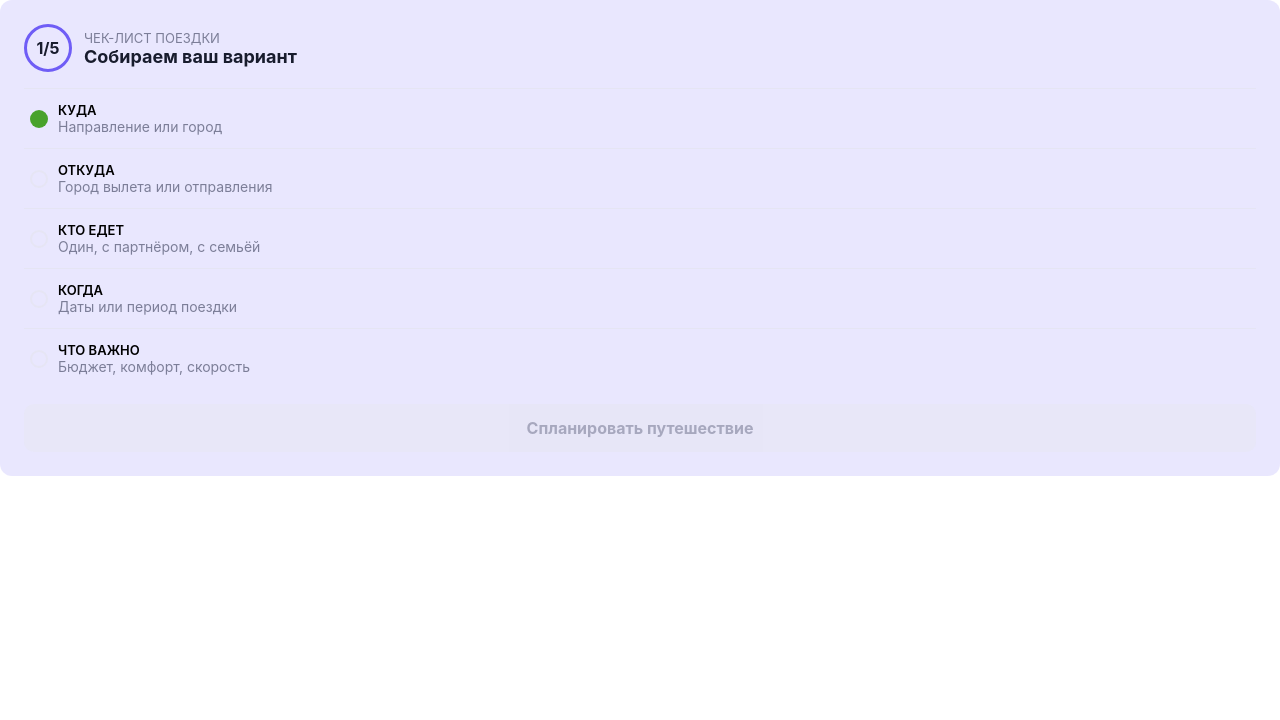
Scenario: ChecklistCard › restores a previously saved destination value when the item is reopened
The image size is (1280, 720).
Click the text "Куда" at [77, 110], box left=58, top=102, right=96, bottom=118
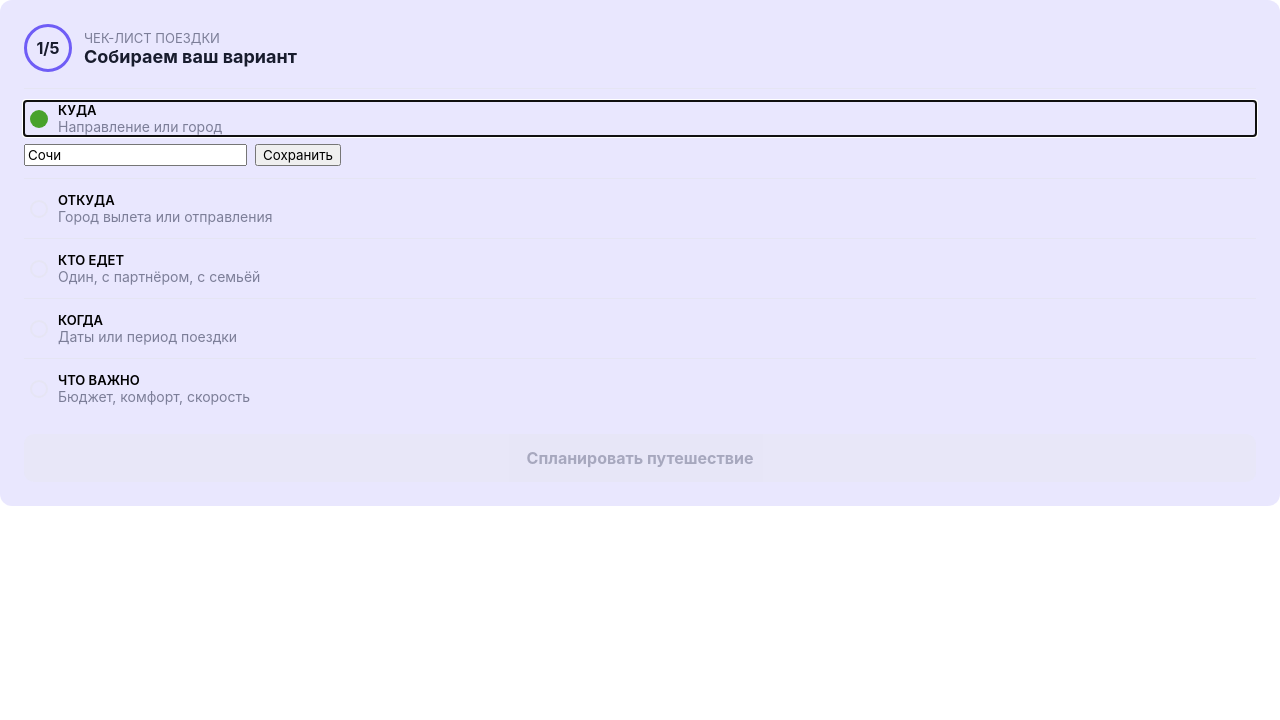
Now the field with placeholder "Город или направление" holds "Сочи", box left=24, top=144, right=247, bottom=166
